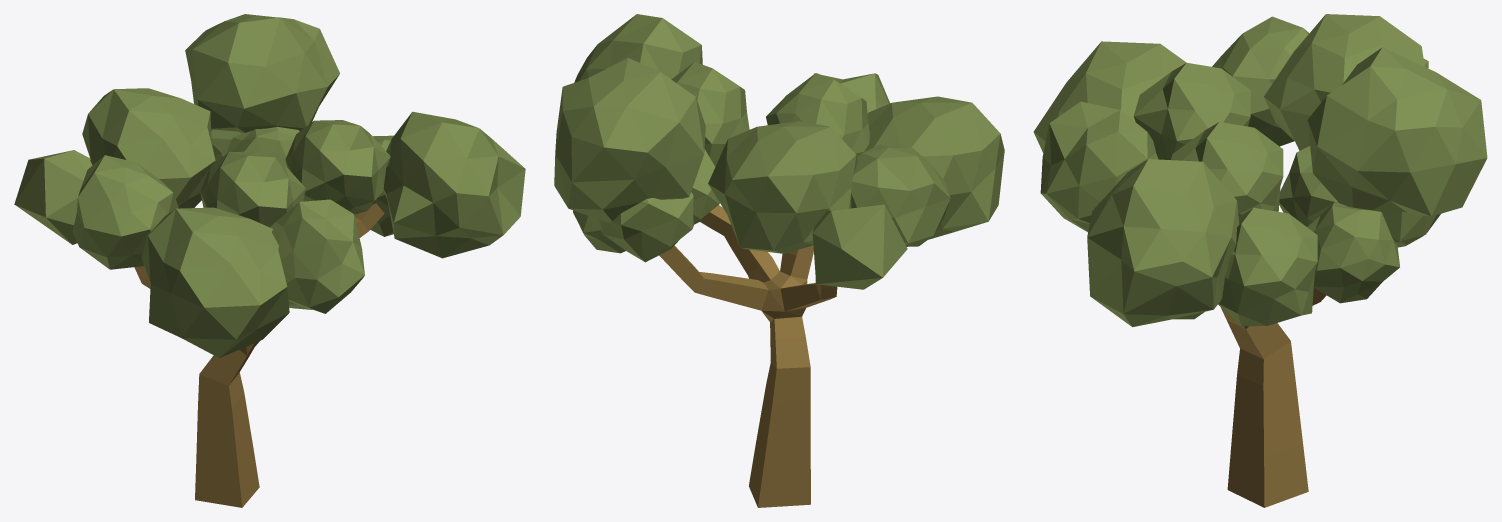
File: medium_tree.fbx
The picture shows the model from 3 angles, left to right: view 1: azimuth 30°, elevation 25°; view 2: azimuth 150°, elevation 25°; view 3: azimuth 270°, elevation 25°; orthographic projection. The views are drawn at different scales.
Parts seen in each view (by area): view 1: Cube; view 2: Cube; view 3: Cube.
Boxes of the visible parts, x1,y1,x2,y2 form: Cube: (14, 14, 525, 507); Cube: (554, 14, 1004, 507); Cube: (1033, 14, 1487, 507).
Bounding box in the file's own units: 663 × 675 × 579.
